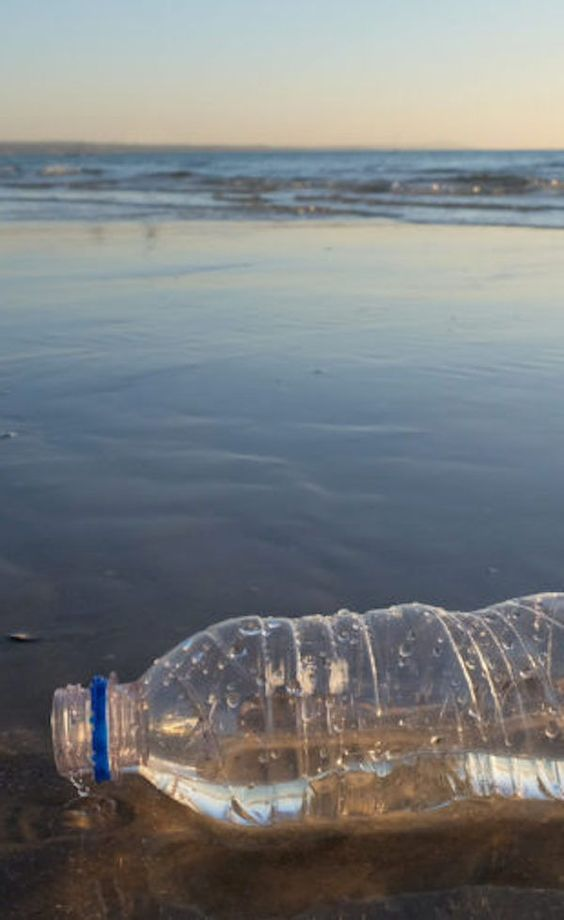paper: (45, 568, 564, 852)
